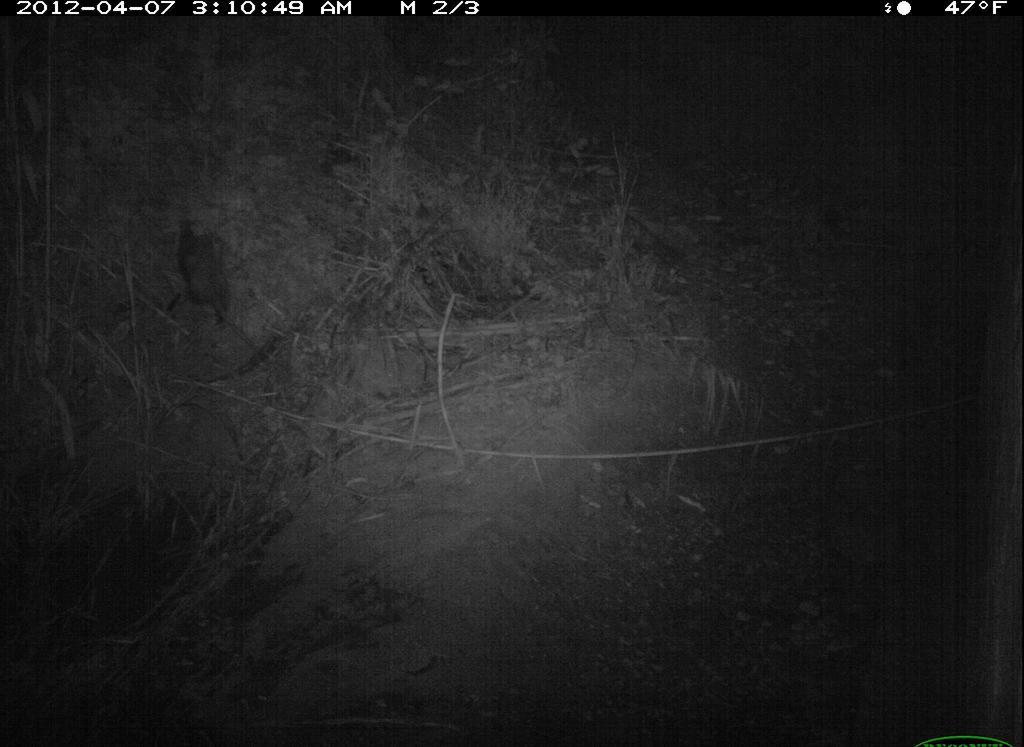opossum: (162, 205, 285, 382)
